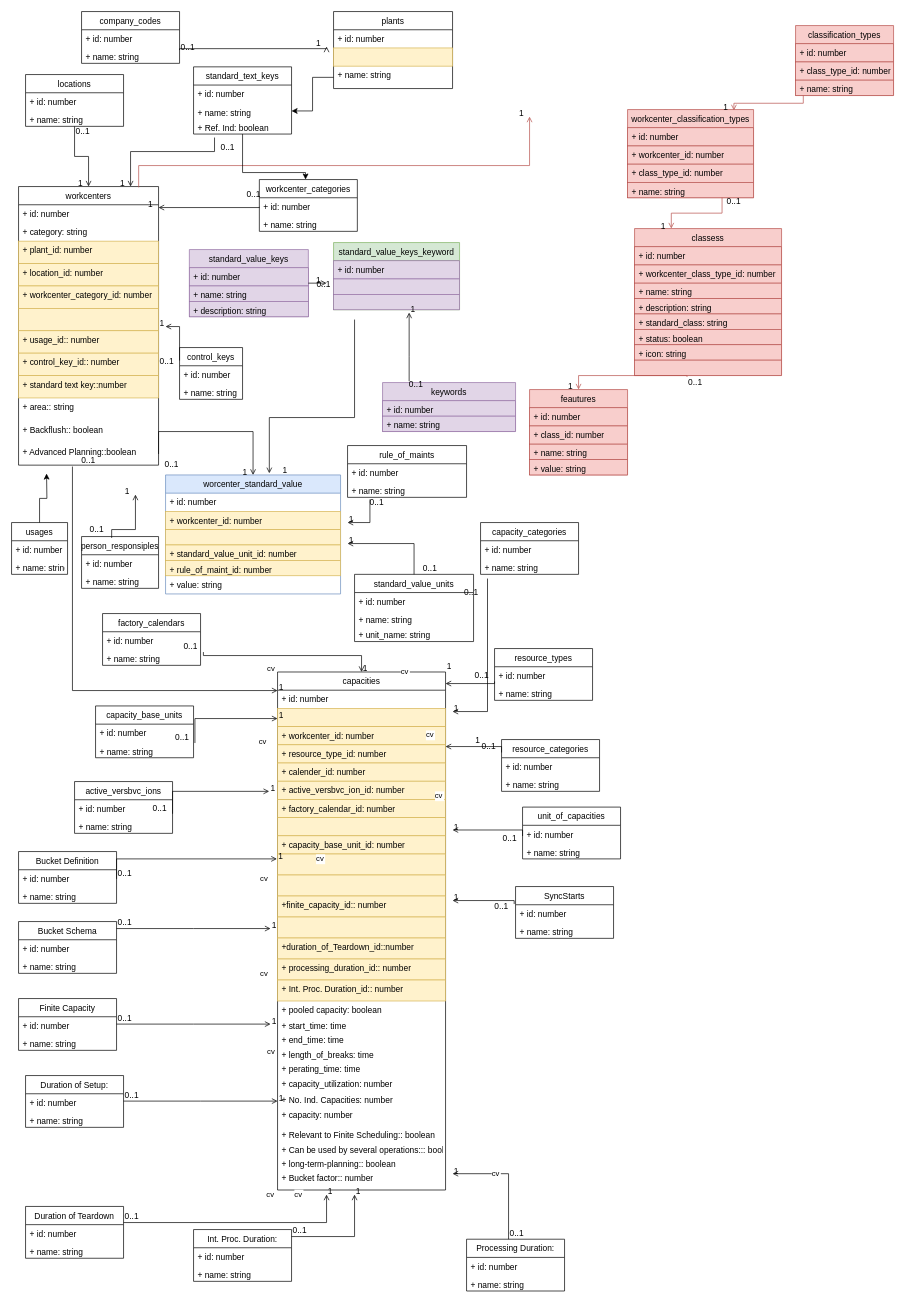
Some shapes in this 905 by 1303 pixel diagram are drawn without their labels. Here are the shapes that lost their labels. From the top down, the centre of each, then its label:
At (x=393, y=56): "+ company_code_id: number".
At (x=396, y=286): "+ standard_value_key_id: number".
At (x=396, y=302): "+ keyword_id: number".
At (x=88, y=319): "+ person_responsible_id:: number".
At (x=708, y=367): "+ Itm: string".
At (x=253, y=537): "+ standard_value_keys_keyword_id: number".
At (x=361, y=717): "+ capacity_category_id: number".
At (x=361, y=826): "+ resource_category_id: number".
At (x=361, y=864): "+ bucket_defenition_id:: number".
At (x=361, y=885): "+bucket_schema_id:: number".
At (x=361, y=927): "+ duration_of_setup_id:: number".
